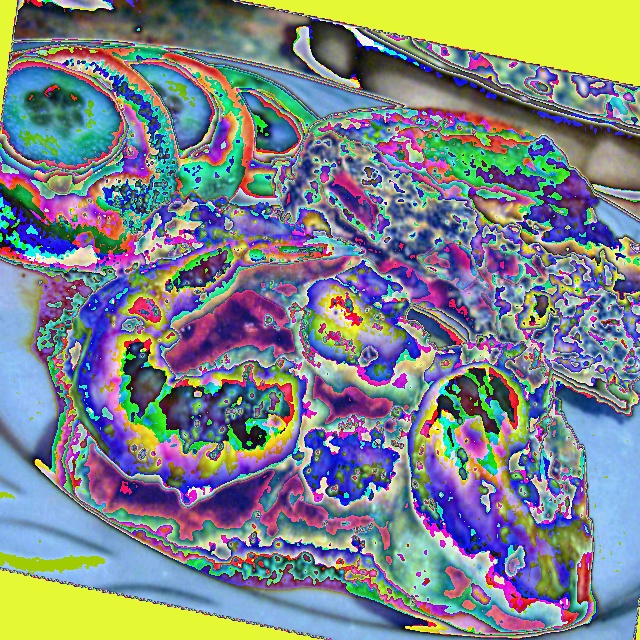background: (0, 45, 640, 624)
